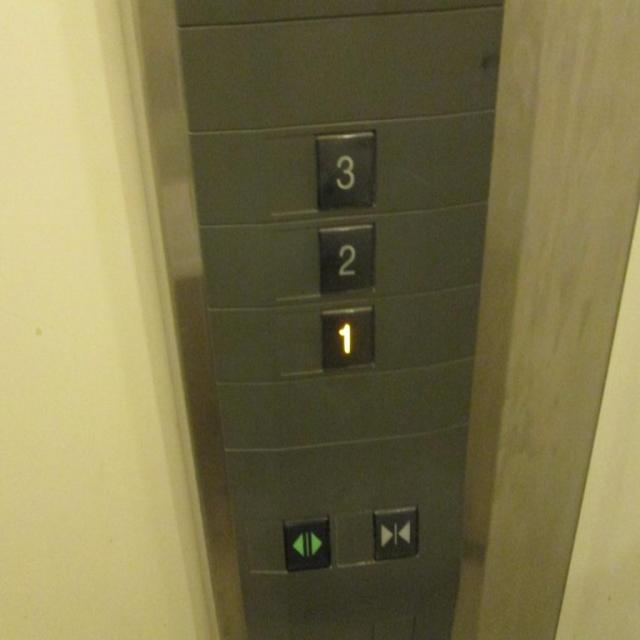1: (318, 302, 377, 373)
2: (316, 220, 377, 296)
3: (313, 128, 377, 210)
close: (369, 503, 421, 562)
open: (281, 513, 332, 574)
